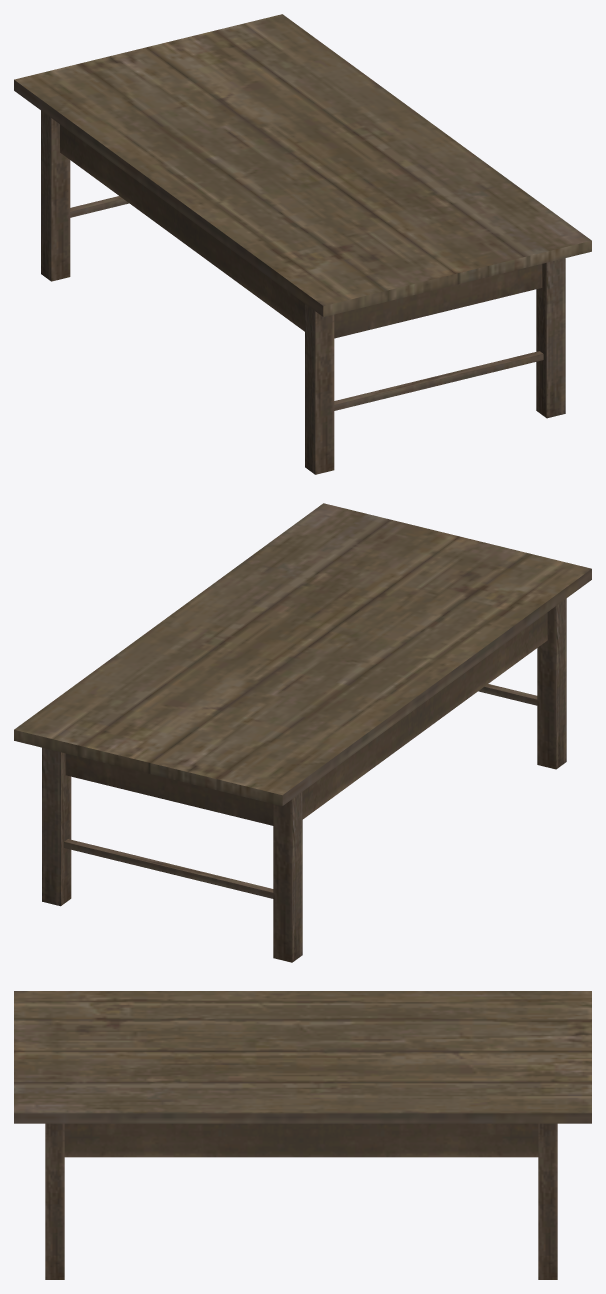
Rendered from bg_lut_lucastle_table05_sm_artree.FBX.
3 renders of one model, top to bottom at view 1: azimuth 30°, elevation 25°; view 2: azimuth 150°, elevation 25°; view 3: azimuth 270°, elevation 25°, orthographic. The views are drawn at different scales.
Visible parts, largest first — view 1: bg_lut_lucastle_table05_sm_artree; view 2: bg_lut_lucastle_table05_sm_artree; view 3: bg_lut_lucastle_table05_sm_artree.
Part boxes in pixels (x1,y1,x2,y2): bg_lut_lucastle_table05_sm_artree: (14,14,591,474); bg_lut_lucastle_table05_sm_artree: (14,503,591,962); bg_lut_lucastle_table05_sm_artree: (14,991,591,1279).
Bounding box in the file's own units: 82.28 × 53.6 × 164.
